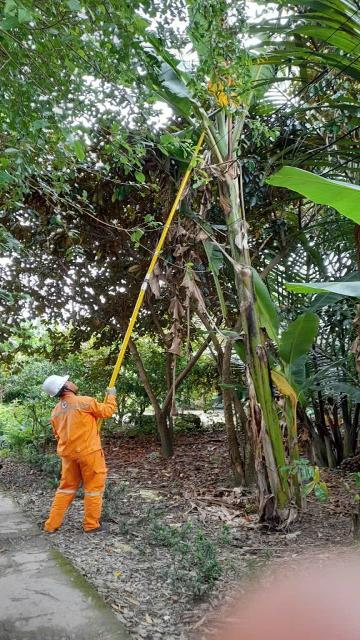gloves: (108, 383, 125, 400)
helmet: (36, 372, 78, 398)
